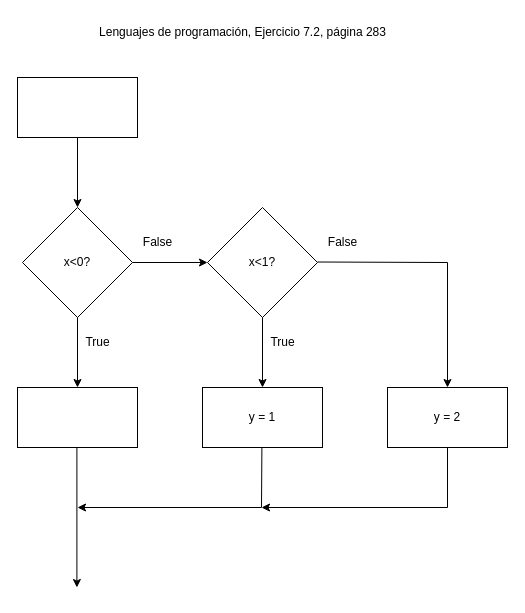
Image size: 525x613. Some labels were removed from this diagram. Each missing label, with the centre of its shape:
Entry Point: [77,107]
y = 0: [77,417]
